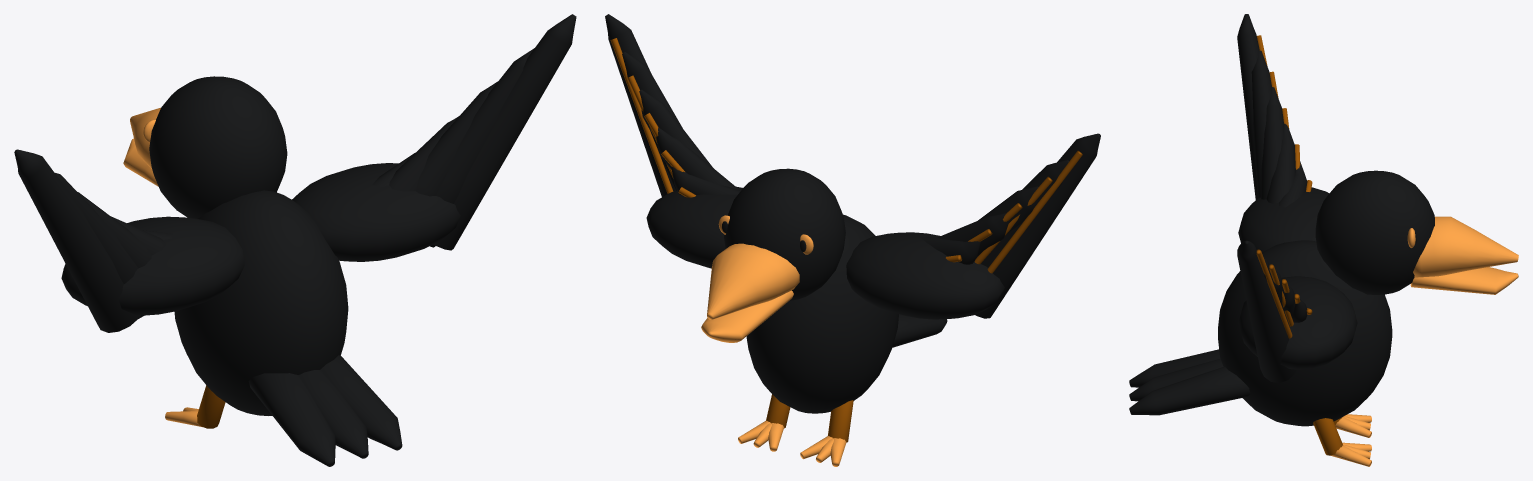
The model's file is Raven.glb.
3 views of the same model, side by side, from view 1: azimuth 30°, elevation 25°; view 2: azimuth 150°, elevation 25°; view 3: azimuth 270°, elevation 25° (orthographic). The views are drawn at different scales.
Parts seen in each view (by area): view 1: Body, RightWing, LeftWing, Head, Tail, LeftLeg, Jaw; view 2: LeftWing, Body, Head, RightWing, Jaw, LeftLeg, RightLeg, Tail; view 3: Head, Body, RightWing, LeftWing, Tail, Jaw, RightLeg, LeftLeg.
Part boxes in pixels (box(x1,y1,x2,y2)): Body: box(174, 190, 348, 415); RightWing: box(292, 14, 576, 261); LeftWing: box(14, 149, 244, 332); Head: box(130, 76, 287, 218); Tail: box(248, 355, 402, 466); LeftLeg: box(165, 385, 225, 428); Jaw: box(123, 138, 158, 186); LeftWing: box(846, 133, 1100, 319); Body: box(746, 214, 898, 413); Head: box(707, 168, 845, 319); RightWing: box(605, 14, 742, 268); Jaw: box(701, 290, 793, 342); LeftLeg: box(800, 400, 853, 466); RightLeg: box(738, 394, 790, 451); Tail: box(892, 314, 947, 347); Head: box(1315, 170, 1518, 294); Body: box(1218, 240, 1392, 426); RightWing: box(1237, 240, 1357, 382); LeftWing: box(1237, 14, 1329, 252); Tail: box(1129, 349, 1250, 415); Jaw: box(1410, 267, 1518, 294); RightLeg: box(1313, 418, 1371, 466); LeftLeg: box(1334, 414, 1371, 437).
Size of the model in its own units: 1.61 by 1.04 by 1.15.
Materials: 1 (1 with a texture image).
